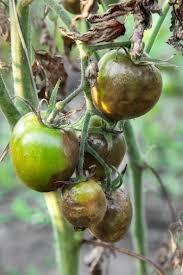tomato late blight: (14, 113, 81, 193), (91, 50, 164, 122), (77, 106, 129, 187), (63, 186, 132, 246), (60, 179, 117, 241)
